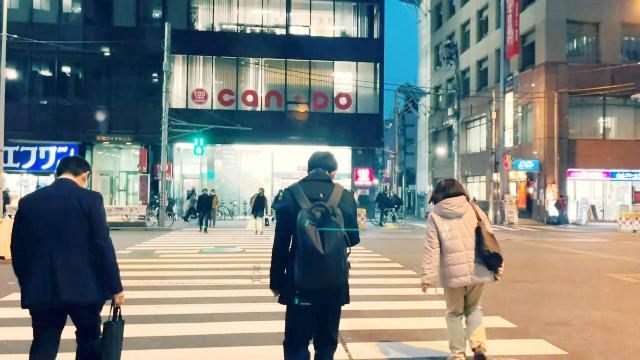berjalan: (11, 151, 128, 360), (266, 148, 362, 360), (421, 176, 503, 360)
